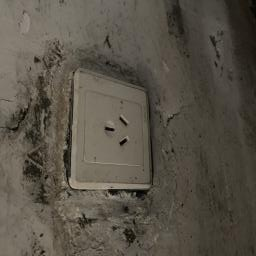outlet: (57, 63, 165, 200)
